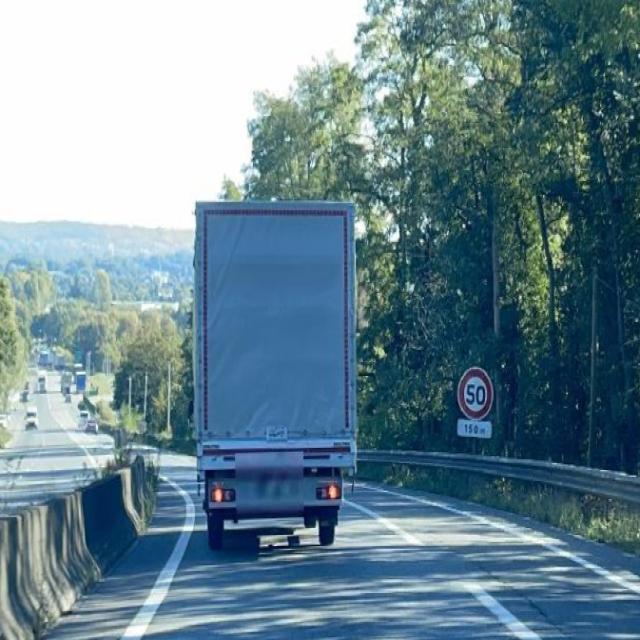speed_50: (458, 369, 492, 418)
